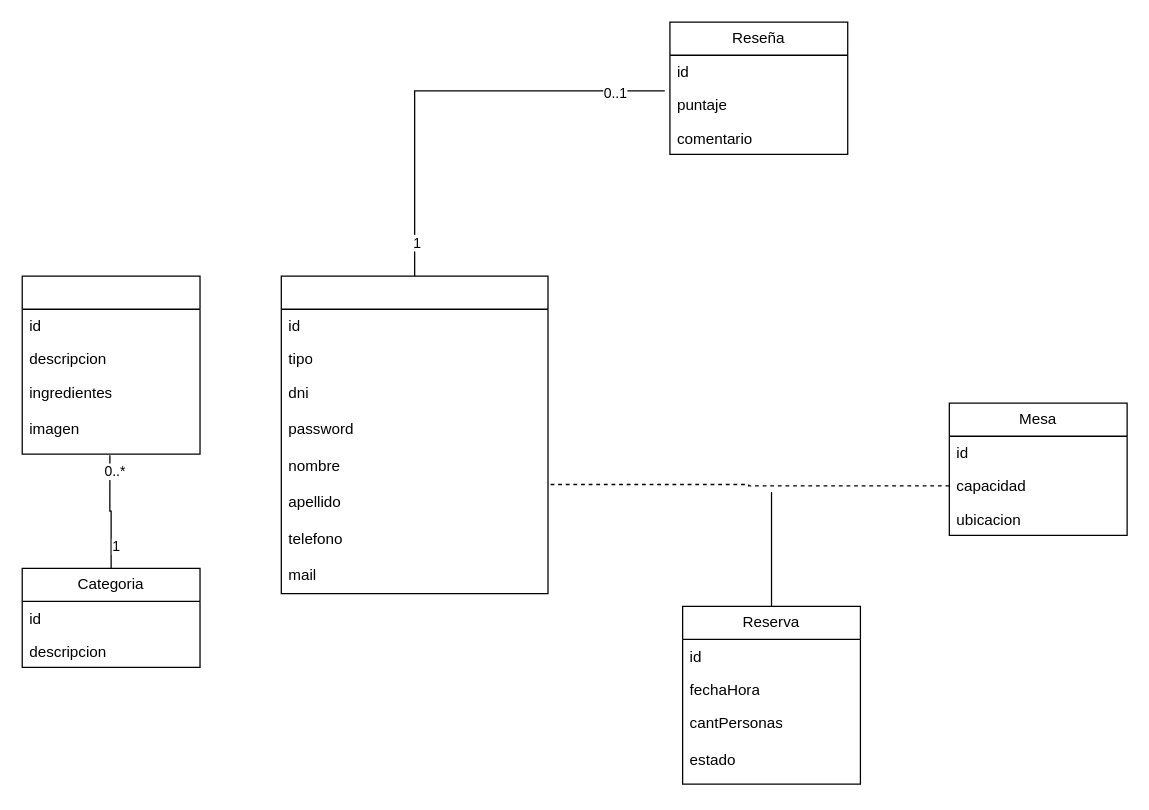
This 1149x810 diagram has some shape labels left out. Each missing label, with the box of its shape:
Persona: (280, 275, 548, 594)
Plato: (21, 275, 200, 454)
